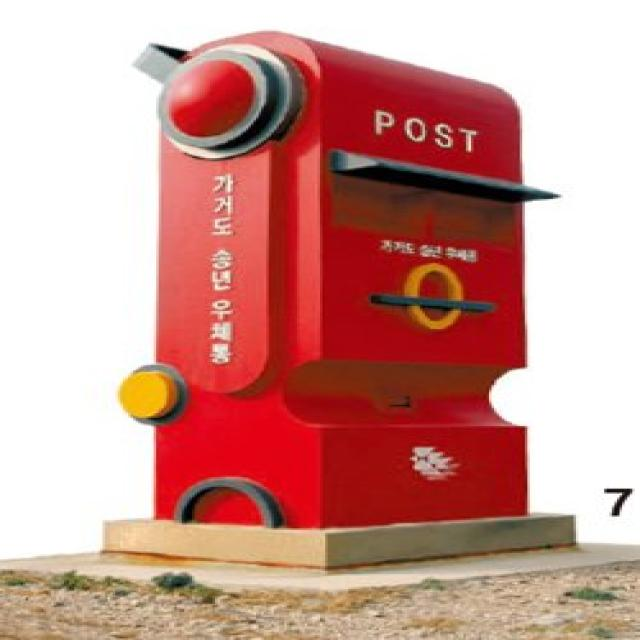Post Box: (105, 29, 584, 572)
